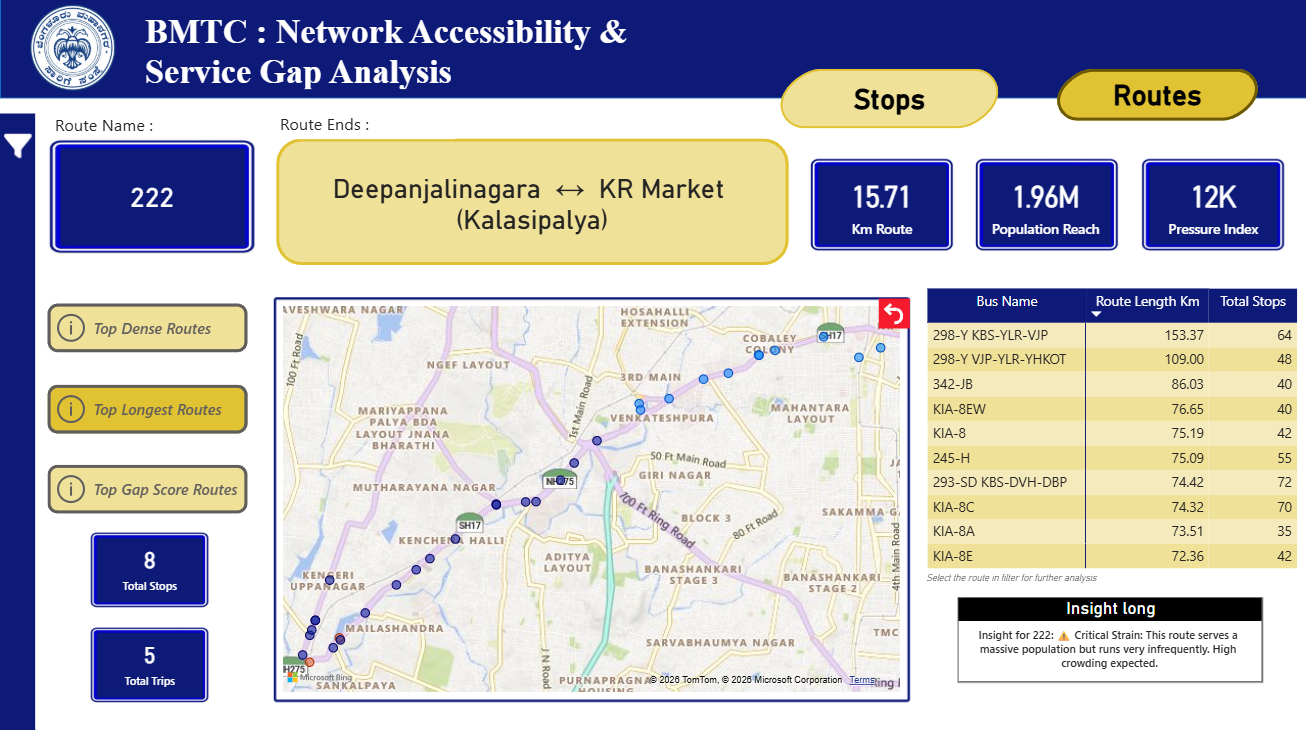

Layout of this report page (visuals, bound fields, positions):
{"tool":"powerbi","page":{"name":"Routes Dashboard","canvas":[1280,720],"ordinal":1},"visuals":[{"type":"shape","title":"bg Shape","box":[0,0,1280,720.3],"z":0},{"type":"image","box":[792.8,158.9,140,90],"z":0,"group":"g1"},{"type":"image","box":[954,158.9,140,90],"z":0,"group":"g2"},{"type":"image","box":[1116.8,158.9,140,90],"z":0,"group":"g3"},{"type":"image","box":[87.7,524.6,116.2,73.4],"z":0,"group":"g5"},{"type":"image","box":[87.7,617.8,116.2,73.4],"z":0,"group":"g4"},{"type":"shape","title":"Filter Strip Shape","box":[0,115.4,34.6,604.5],"z":1000},{"type":"card","fields":{"Values":["Key Measure.Smart Route Length"]},"box":[794,162.5,138.8,82.5],"z":1000,"group":"g1"},{"type":"card","fields":{"Values":["Key Measure.Smart Population Reach"]},"box":[953.8,162.5,138.8,82.5],"z":1000,"group":"g2"},{"type":"card","title":"Pressure Index Card","fields":{"Values":["Key Measure.Pressure Index"]},"box":[1118,162.5,138.8,82.5],"z":1000,"group":"g3"},{"type":"card","fields":{"Values":["Key Measure.Selected Route Stops"]},"box":[104.8,529.5,83.2,58.7],"z":1000,"group":"g5"},{"type":"card","fields":{"Values":["Key Measure.Selected Route Trips"]},"box":[104.8,622.5,83.2,58.7],"z":1000,"group":"g4"},{"type":"shape","box":[270.1,139.7,501.2,123.8],"z":2000},{"type":"image","box":[47.6,140.9,201.2,111.2],"z":3000},{"type":"shape","title":"Header","box":[0,0,1280.3,100.3],"z":4000},{"type":"image","title":"Logo","box":[23.8,8.8,96.2,83.8],"z":5000},{"type":"actionButton","title":"Stops Page Button","box":[752,67.3,236,66],"z":6000},{"type":"actionButton","title":"Routes Page Button","box":[1023.5,67.3,217.7,58.7],"z":7000},{"type":"card","title":"Route Full name Card","fields":{"Values":["Key Measure.Selected Route Full Name"]},"box":[280.1,140.9,481.2,122.5],"z":8000},{"type":"actionButton","title":"Filter Button","box":[0,126.2,35,41.2],"z":10000},{"type":"textbox","title":"BMTC : Network Accessibility & Service Gap Analysis","box":[135.6,11.2,568.5,74.6],"z":11000},{"type":"card","title":"Route Id Card","fields":{"Values":["Key Measure.Selected Route Name"]},"box":[51.3,148.4,195,96.2],"z":12000},{"type":"textbox","title":"Route Name Text box","box":[48.8,109.7,176.2,31.2],"z":13000},{"type":"textbox","title":"Route Ends Text box","box":[268.8,108.4,176.2,31.2],"z":14000},{"type":"group","id":"g1","title":"Route Length Group","box":[792.8,158.9,140,90],"z":15000},{"type":"group","id":"g2","title":"Population Reach Group","box":[953.8,158.9,140.2,90],"z":16000},{"type":"group","id":"g3","title":"Pressure Index Card","box":[1116.8,158.9,140,90],"z":17000},{"type":"actionButton","title":"Top Dense Button","box":[46.2,300.8,195.7,47.7],"z":18000},{"type":"actionButton","title":"Top Longest Button","box":[46.2,379.9,195.7,47.7],"z":19000},{"type":"actionButton","title":"Top Gap Button","box":[46.2,459,195.7,47.7],"z":20000},{"type":"pivotTable","title":"Sq Matrix","fields":{"Rows":["route_stop_mapping.stop_sequence"],"Values":["Min(stops_for_powerbi.name)","Key Measure.Clean Distance"]},"box":[863.3,277.6,417,310.6],"z":21000},{"type":"group","id":"g4","title":"Trip Count Group","box":[87.7,617.8,116.2,73.4],"z":25000},{"type":"group","id":"g5","title":"Stops Count Group","box":[87.7,524.6,116.2,73.4],"z":26000},{"type":"card","title":"Insight sq","fields":{"Values":["Key Measure.Route Insights Narrative"]},"box":[895.7,598.3,353.3,83.3],"z":27000},{"type":"map","title":"Map - sq","fields":{"Series":["stops_for_powerbi.status"],"X":["stops_for_powerbi.lon"],"Y":["stops_for_powerbi.lat"]},"box":[268.4,294.3,574.2,396.8],"z":27500},{"type":"actionButton","title":"Back Button sq","box":[812.3,295.8,30.3,28.9],"z":28000},{"type":"actionButton","title":"Clear Slicer Button","box":[1189.2,694.1,90.8,26.1],"z":47000}]}

Visuals, with their boxes in screenshot pixels (x1, y1, x2, y2), scaled from the page's 1280x720 canvas onto the 1306x730 screenshot:
"bg Shape" shape: rect(0, 0, 1305, 729)
image: rect(809, 161, 952, 252)
image: rect(973, 161, 1116, 252)
image: rect(1139, 161, 1282, 252)
image: rect(89, 532, 208, 606)
image: rect(89, 626, 208, 701)
"Filter Strip Shape" shape: rect(0, 117, 35, 729)
card - Key Measure.Smart Route Length: rect(810, 165, 952, 248)
card - Key Measure.Smart Population Reach: rect(973, 165, 1115, 248)
"Pressure Index Card" card: rect(1141, 165, 1282, 248)
card - Key Measure.Selected Route Stops: rect(107, 537, 192, 596)
card - Key Measure.Selected Route Trips: rect(107, 631, 192, 691)
shape: rect(276, 142, 787, 267)
image: rect(49, 143, 254, 256)
"Header" shape: rect(0, 0, 1305, 102)
"Logo" image: rect(24, 9, 122, 94)
"Stops Page Button" actionButton: rect(767, 68, 1008, 135)
"Routes Page Button" actionButton: rect(1044, 68, 1266, 128)
"Route Full name Card" card: rect(286, 143, 777, 267)
"Filter Button" actionButton: rect(0, 128, 36, 170)
"BMTC : Network Accessibility & Service Gap Analysis" textbox: rect(138, 11, 718, 87)
"Route Id Card" card: rect(52, 150, 251, 248)
"Route Name Text box" textbox: rect(50, 111, 230, 143)
"Route Ends Text box" textbox: rect(274, 110, 454, 142)
"Route Length Group" group: rect(809, 161, 952, 252)
"Population Reach Group" group: rect(973, 161, 1116, 252)
"Pressure Index Card" group: rect(1139, 161, 1282, 252)
"Top Dense Button" actionButton: rect(47, 305, 247, 353)
"Top Longest Button" actionButton: rect(47, 385, 247, 434)
"Top Gap Button" actionButton: rect(47, 465, 247, 514)
"Sq Matrix" pivotTable: rect(881, 281, 1305, 596)
"Trip Count Group" group: rect(89, 626, 208, 701)
"Stops Count Group" group: rect(89, 532, 208, 606)
"Insight sq" card: rect(914, 607, 1274, 691)
"Map - sq" map: rect(274, 298, 860, 701)
"Back Button sq" actionButton: rect(829, 300, 860, 329)
"Clear Slicer Button" actionButton: rect(1213, 704, 1305, 729)
